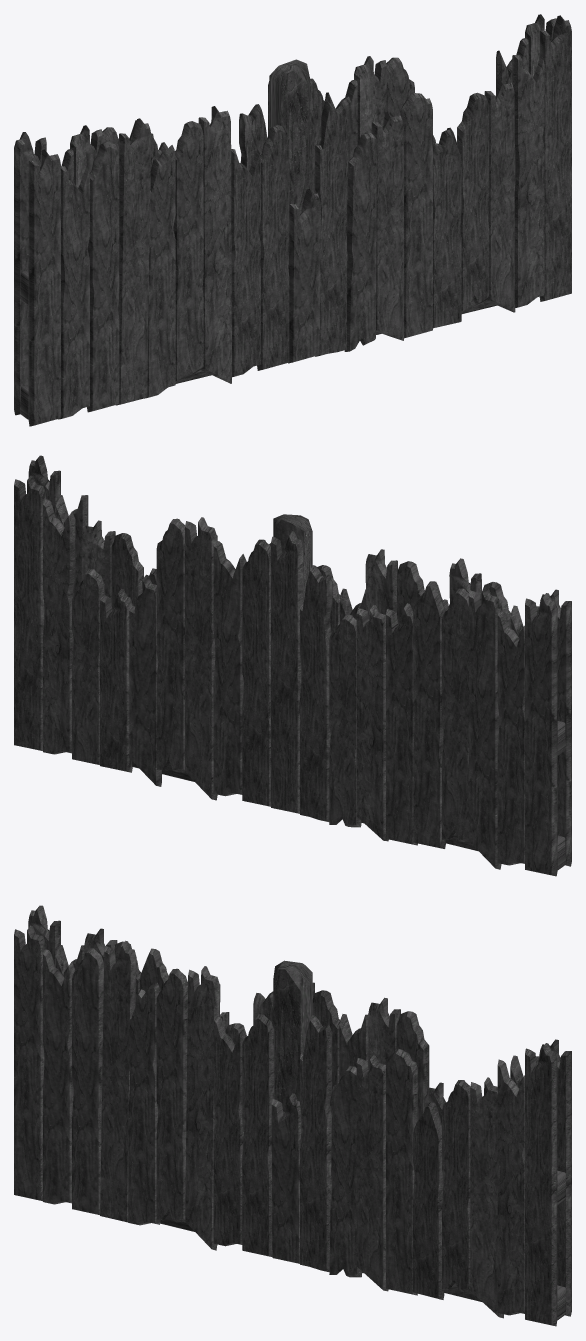
Rendered from SM_FAR_WoodFence_04.fbx.
The picture shows the model from 3 angles, top to bottom: view 1: azimuth 30°, elevation 25°; view 2: azimuth 150°, elevation 25°; view 3: azimuth 330°, elevation 25°; orthographic projection.
Visible parts, largest first — view 1: SM_Farm_WoodFence01.mo; view 2: SM_Farm_WoodFence01.mo; view 3: SM_Farm_WoodFence01.mo.
Part boxes in pixels (box(x1,y1,x2,y2)): SM_Farm_WoodFence01.mo: box(14, 14, 571, 426); SM_Farm_WoodFence01.mo: box(14, 455, 571, 876); SM_Farm_WoodFence01.mo: box(14, 905, 571, 1326).
Bounding box in the file's own units: 829 × 437 × 57.58.
